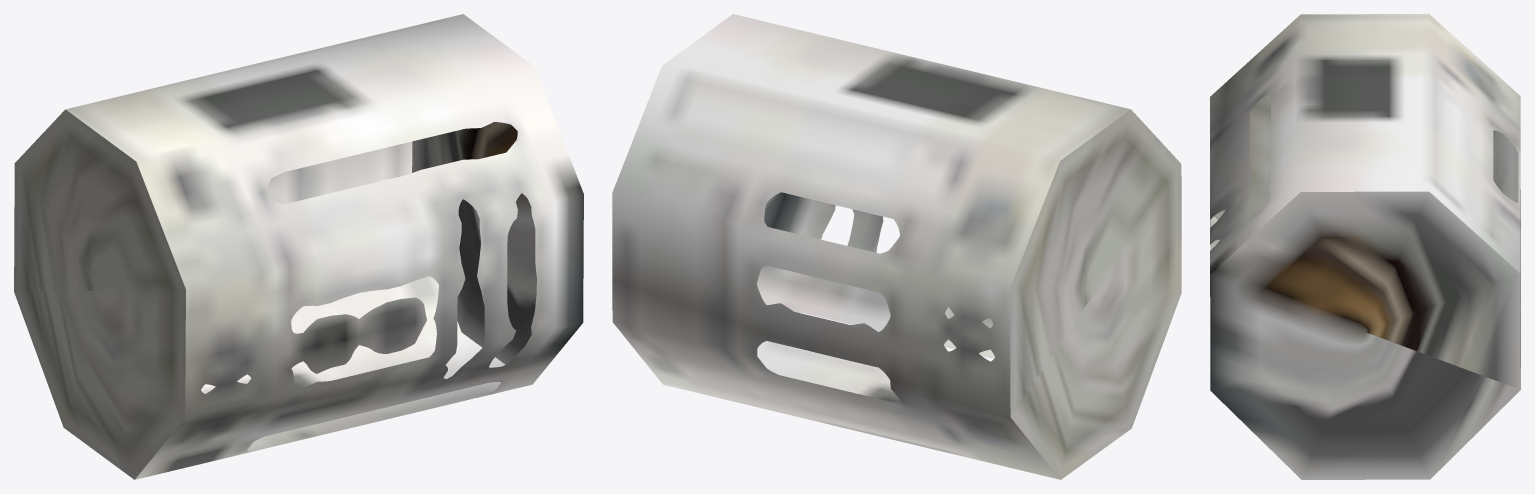
Rendered from poi_r3_torso_l3.fbx.
3 views of the same model, side by side, from view 1: azimuth 30°, elevation 25°; view 2: azimuth 150°, elevation 25°; view 3: azimuth 270°, elevation 25° (orthographic). The views are drawn at different scales.
Visible parts, largest first — view 1: mesh_node; view 2: mesh_node; view 3: mesh_node.
Boxes of the visible parts, x1,y1,x2,y2 form: mesh_node: (14, 14, 583, 479); mesh_node: (612, 14, 1181, 479); mesh_node: (1210, 14, 1520, 479).
Size of the model in its own units: 0.5561 by 0.4266 by 0.4136.
Materials: 1 (1 with a texture image).
